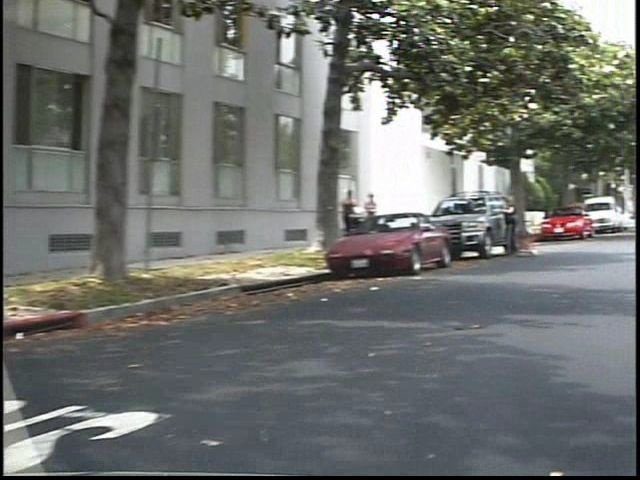person: (516, 192, 545, 262), (353, 182, 379, 250), (375, 188, 397, 245)
